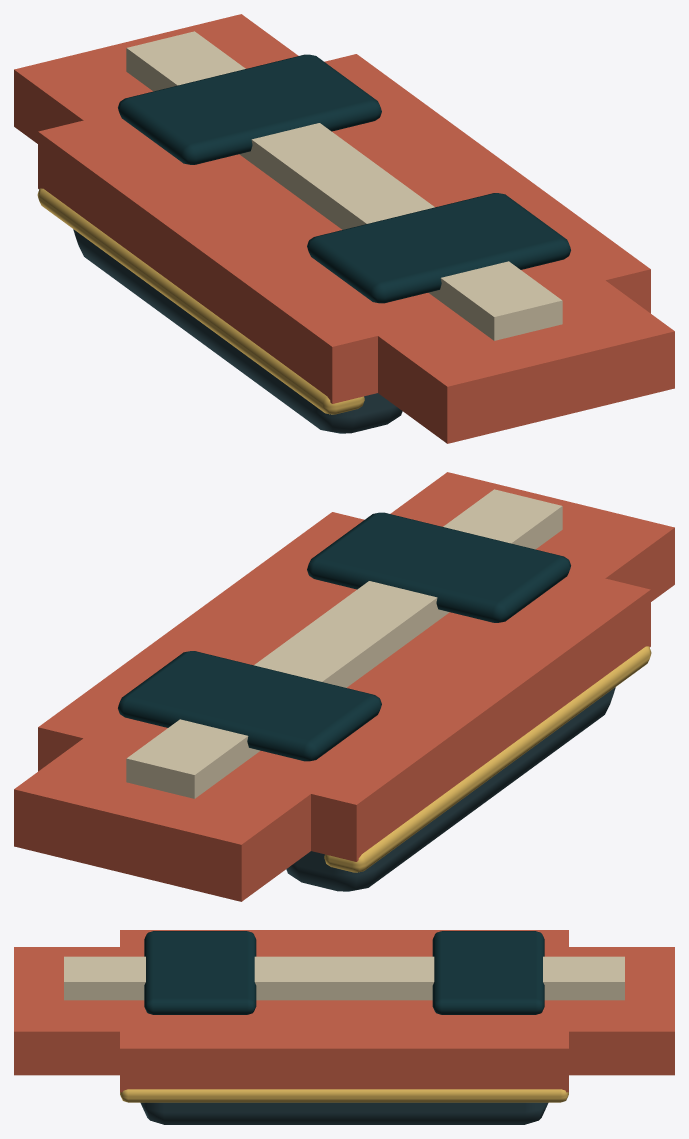
File: board-ember.glb
The picture shows the model from 3 angles, top to bottom: view 1: azimuth 30°, elevation 25°; view 2: azimuth 150°, elevation 25°; view 3: azimuth 270°, elevation 25°; orthographic projection. The views are drawn at different scales.
Visible parts, largest first — view 1: Mesh_0; view 2: Mesh_0; view 3: Mesh_0.
Boxes of the visible parts, x1,y1,x2,y2 form: Mesh_0: (14,14,674,443); Mesh_0: (14,472,674,901); Mesh_0: (14,930,674,1124).
Size of the model in its own units: 0.72 by 0.3125 by 1.65.
